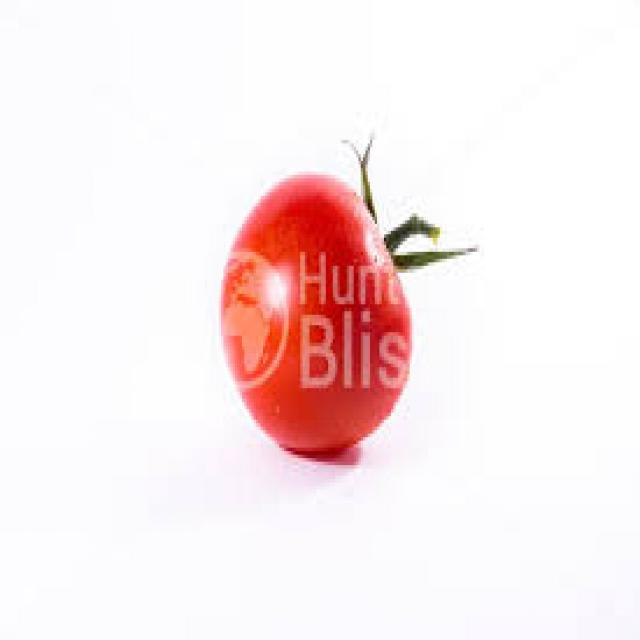organic waste: (219, 133, 475, 458)
